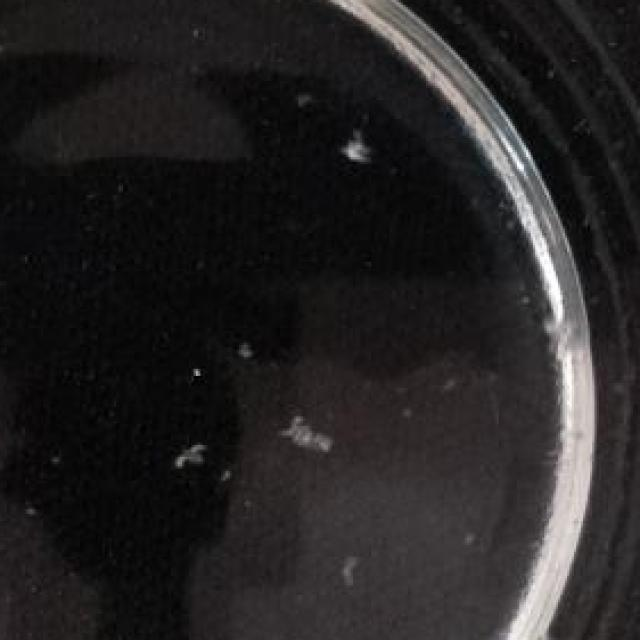Microplastic: (280, 409, 346, 471), (173, 447, 226, 483), (342, 136, 374, 166)
